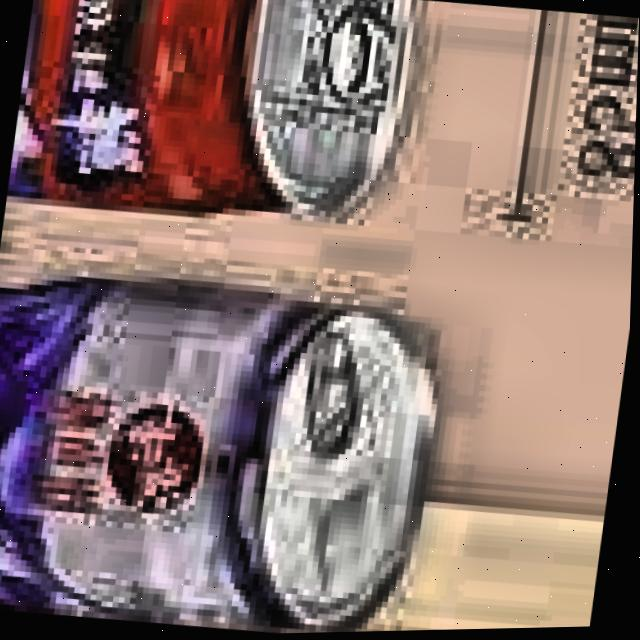metal: (0, 256, 475, 640), (3, 0, 427, 254)
